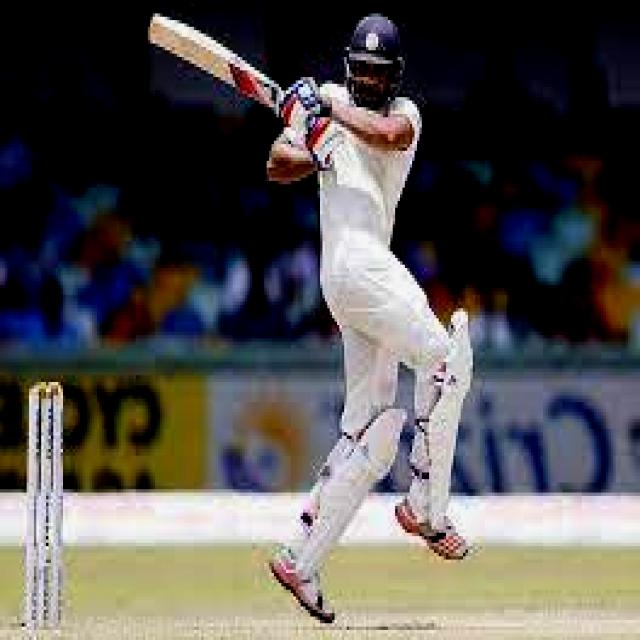toe: (148, 5, 162, 60)
